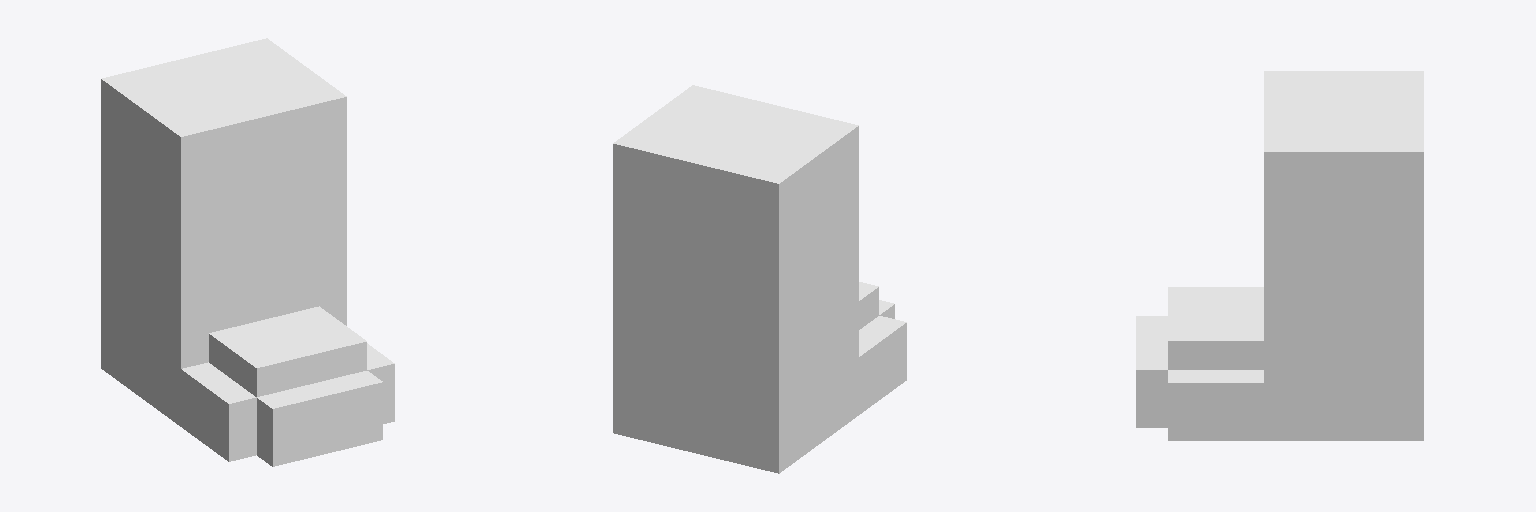
Rendered from leg.obj.
3 views of the same model, side by side, from view 1: azimuth 30°, elevation 25°; view 2: azimuth 150°, elevation 25°; view 3: azimuth 270°, elevation 25° (orthographic).
Parts seen in each view (by area): view 1: object 1; view 2: object 1; view 3: object 1.
Part boxes in pixels (bbox=[...]): object 1: bbox=[101, 38, 394, 466]; object 1: bbox=[613, 85, 906, 473]; object 1: bbox=[1136, 71, 1423, 440].
Size of the model in its own units: 0.6 by 1 by 0.9.